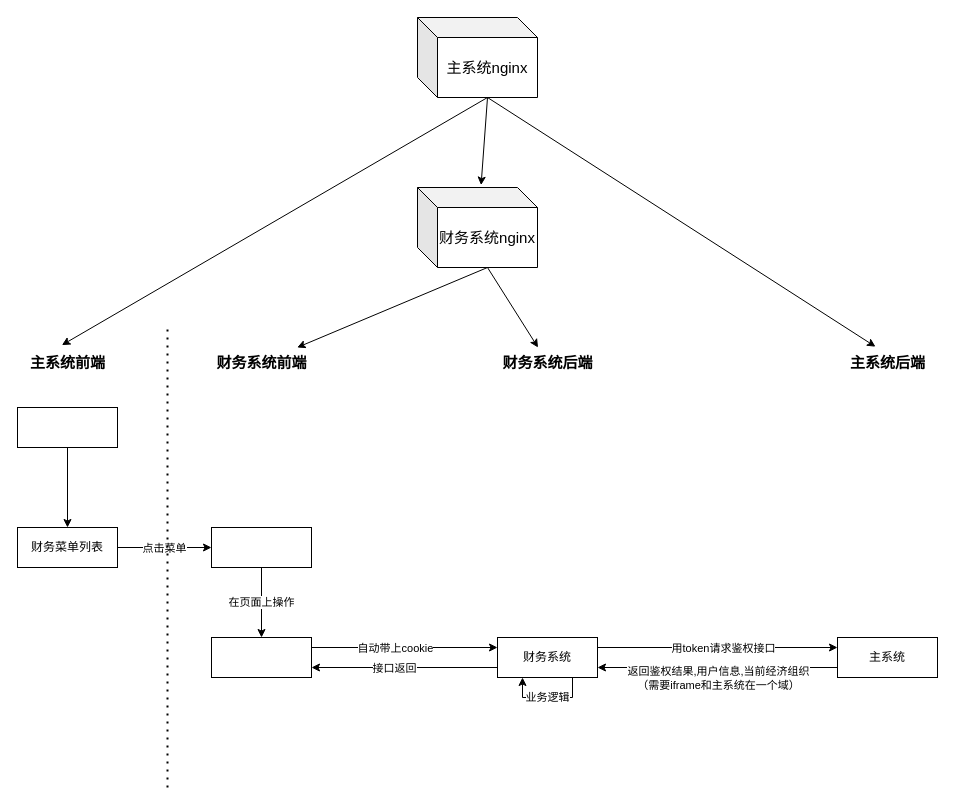
The diagram is 955 pixels wide and 807 high, and some of its shapes have lost their labels. Here are the shapes that lost their labels. From the top down, the centre of each, then its label:
At [67,427]: "登录".
At [261,547]: "iframe加载对应的页面".
At [261,657]: "请求财务后端".
